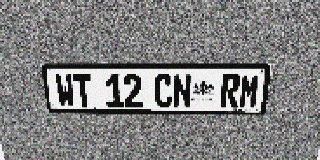1: (104, 74, 124, 107)
2: (123, 74, 142, 107)
C: (154, 74, 173, 108)
M: (238, 74, 261, 108)
N: (173, 74, 192, 108)
R: (220, 74, 241, 108)
T: (72, 74, 93, 107)
W: (54, 74, 76, 107)
